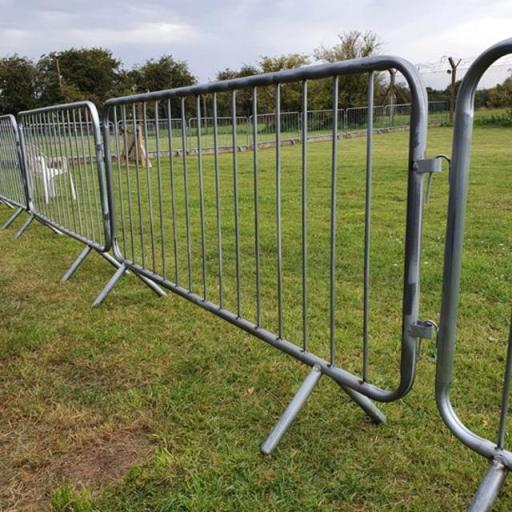bus_stop: (82, 45, 438, 494), (425, 3, 512, 512), (14, 101, 162, 303), (0, 114, 34, 238)
